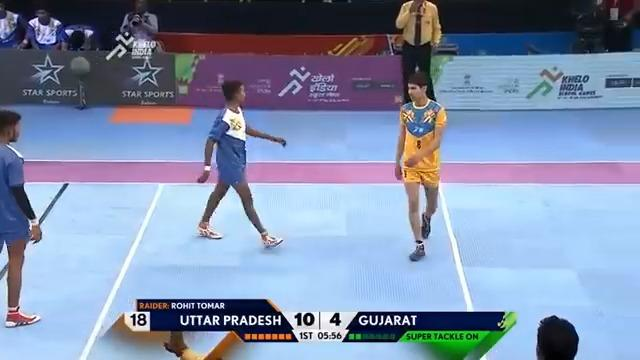Player: (195, 79, 286, 248), (0, 108, 43, 328), (23, 8, 69, 50)
Raider: (393, 70, 447, 261)
referee: (394, 0, 442, 104)
